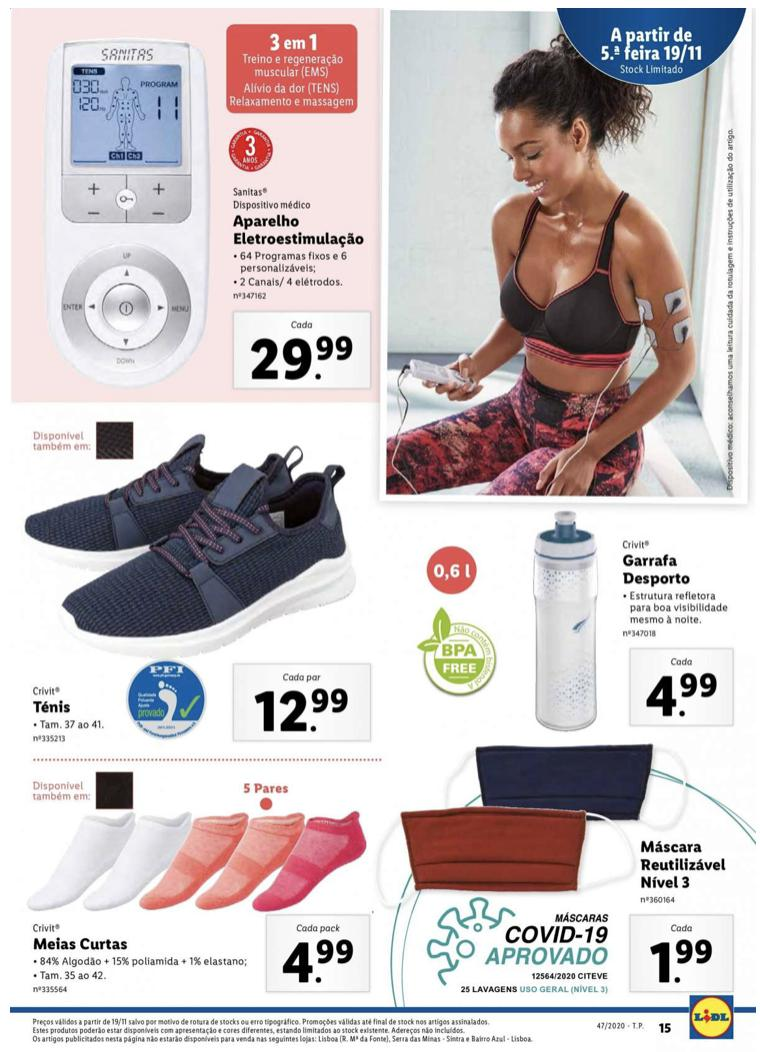name: (228, 210, 367, 249), (635, 834, 730, 890), (616, 551, 696, 591), (33, 934, 135, 956), (25, 697, 74, 715)
price: (246, 328, 357, 382), (252, 684, 350, 736), (643, 665, 720, 725), (647, 934, 717, 990), (278, 938, 359, 986)
product: (30, 15, 374, 399), (17, 425, 386, 751), (382, 730, 746, 997), (13, 771, 386, 1008), (382, 508, 757, 730)
